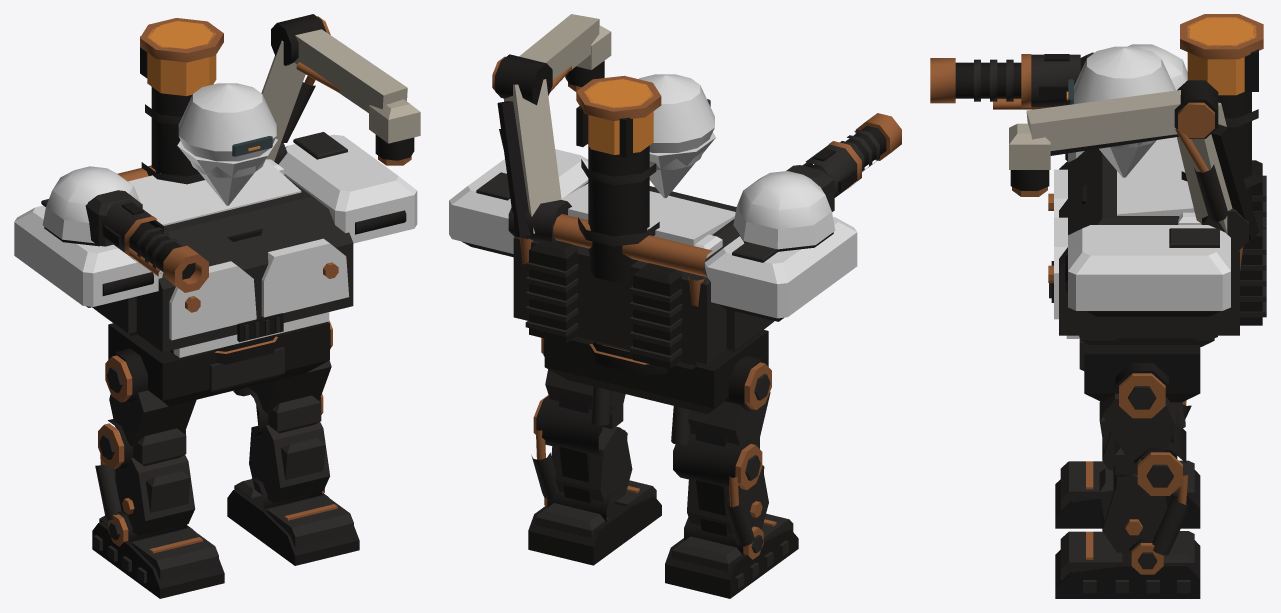
The model's file is cmd_commander.9db373c0.raw.glb.
3 renders of one model, left to right at view 1: azimuth 30°, elevation 25°; view 2: azimuth 150°, elevation 25°; view 3: azimuth 270°, elevation 25°, orthographic. The views are drawn at different scales.
Parts seen in each view (by area): view 1: lod0; view 2: lod0; view 3: lod0.
Boxes of the visible parts, x1,y1,x2,y2 form: lod0: (14,14,420,598); lod0: (449,14,901,598); lod0: (930,14,1266,598).
Size of what is drawn, in the model's own units: 2.28 by 3.14 by 1.86.
